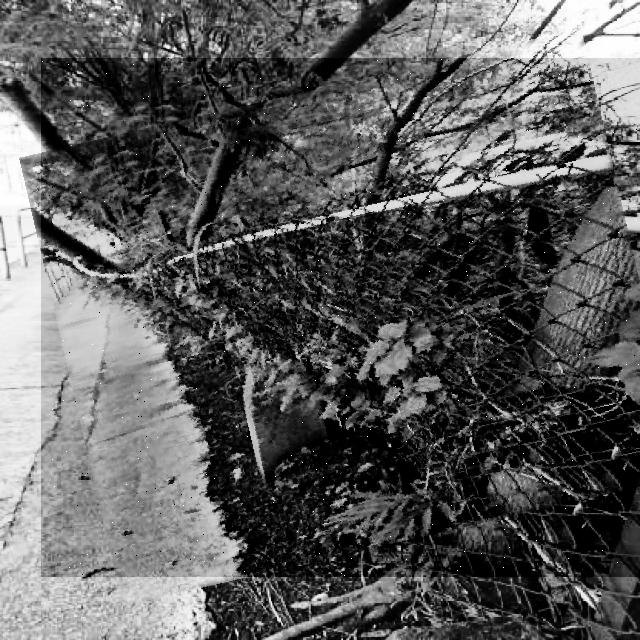anomaly-fence: (41, 58, 640, 577)
